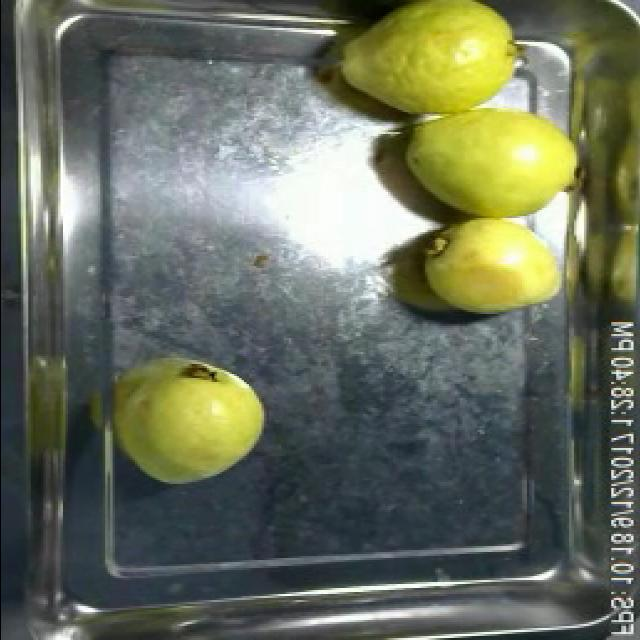Fruit: (392, 74, 596, 226), (328, 0, 538, 130), (109, 350, 273, 492), (412, 212, 570, 324)
